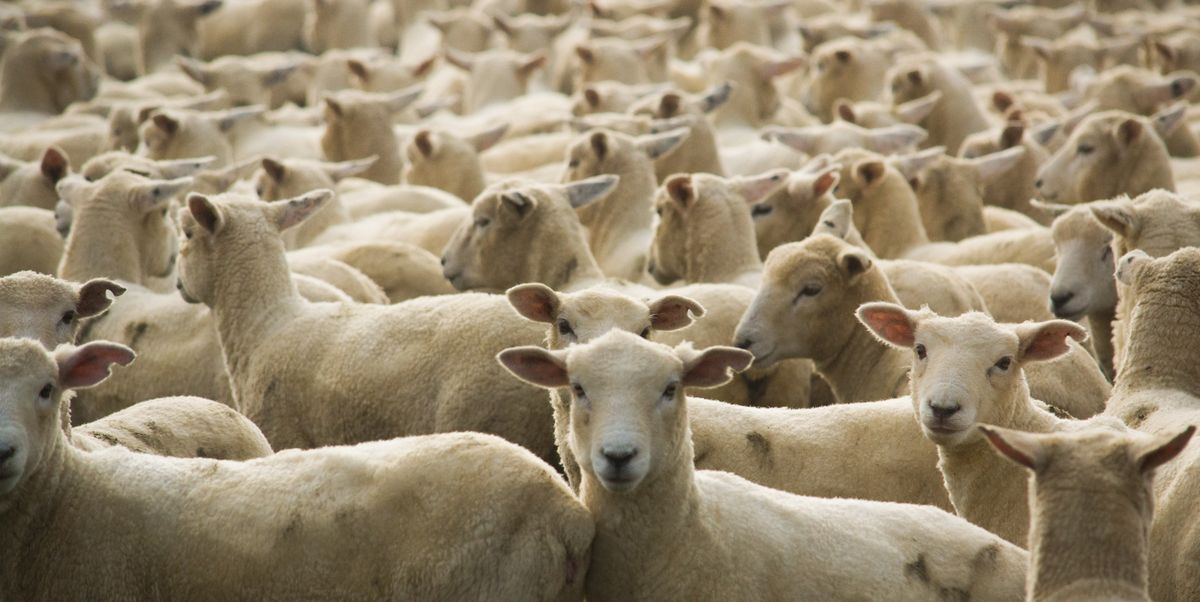koyun: (1, 340, 481, 595), (515, 353, 886, 602), (174, 192, 447, 430), (860, 302, 1040, 510), (723, 242, 880, 384), (424, 185, 620, 294)
